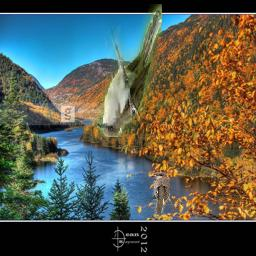Cuckoo: (98, 5, 163, 138), (152, 173, 170, 214)
